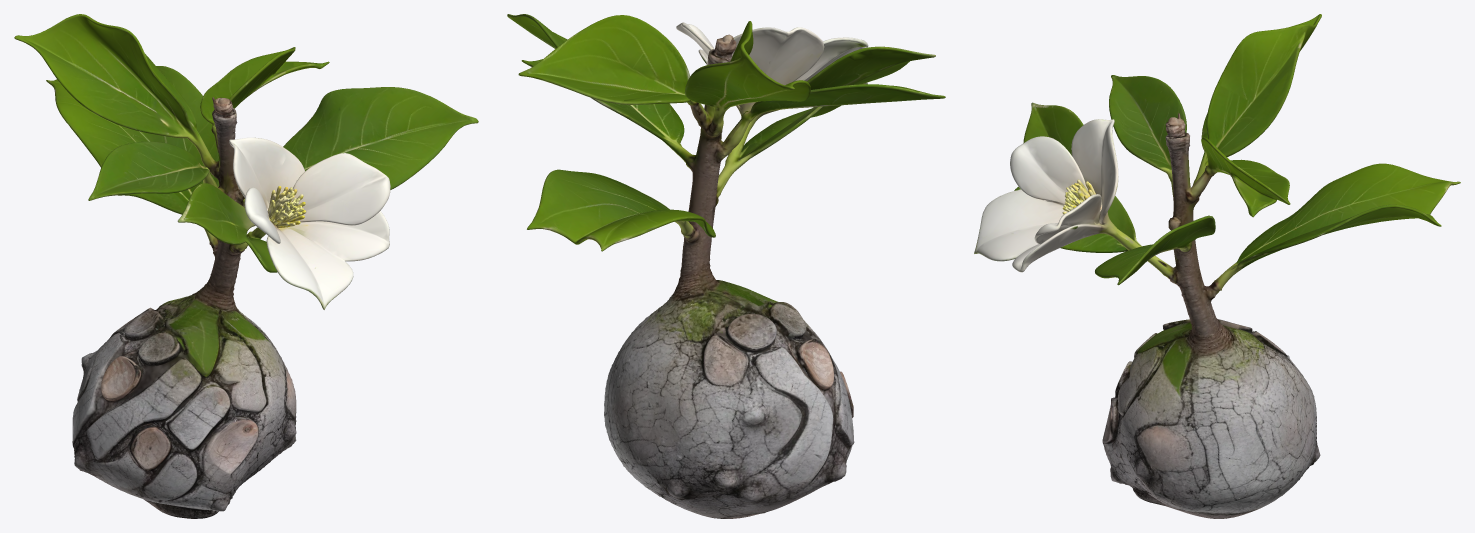
The model's file is houpo.glb.
3 renders of one model, left to right at view 1: azimuth 30°, elevation 25°; view 2: azimuth 150°, elevation 25°; view 3: azimuth 270°, elevation 25°, orthographic. The views are drawn at different scales.
Parts seen in each view (by area): view 1: node_0; view 2: node_0; view 3: node_0.
Part boxes in pixels (x1,y1,x2,y2): node_0: (14,14,478,518); node_0: (507,14,945,518); node_0: (974,14,1460,518).
Bounding box in the file's own units: 0.8548 × 0.9442 × 0.9284.
1 material, 1 textured.
